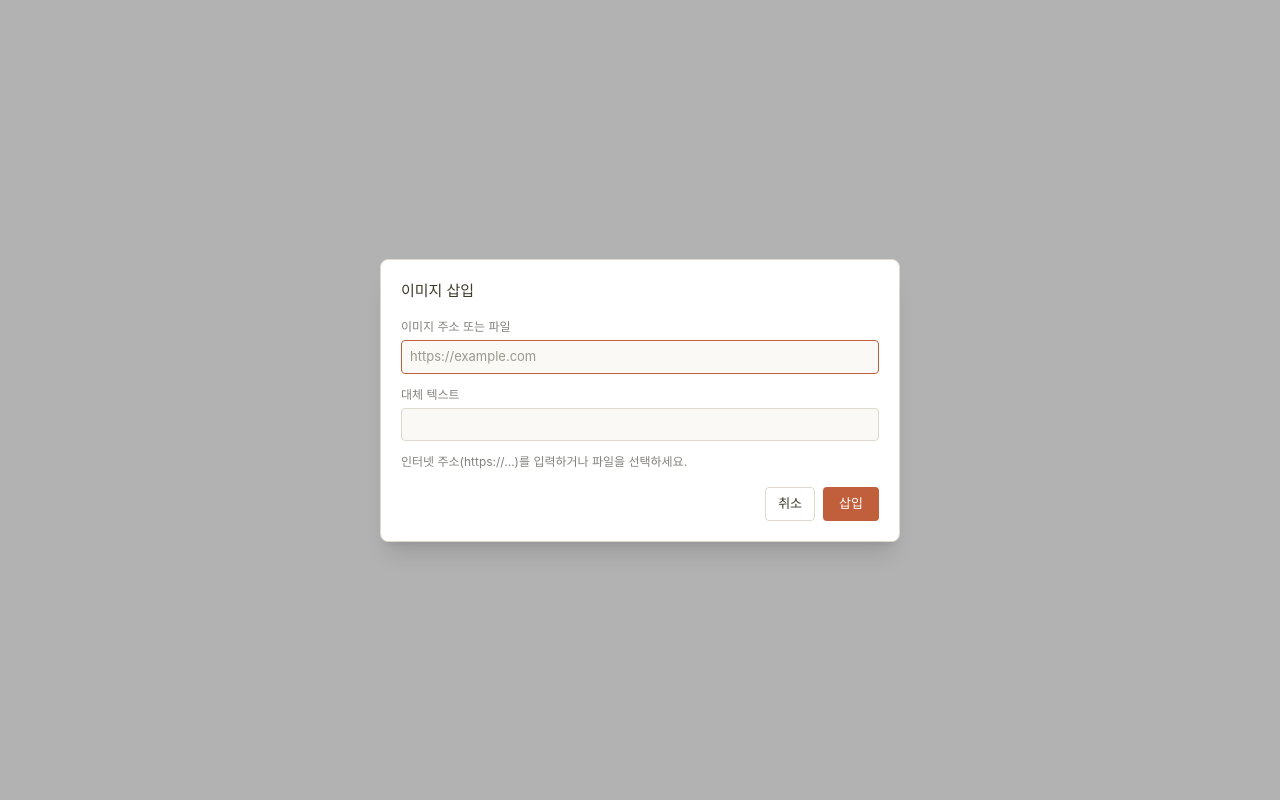
Test: InsertDialog › shows an error and stays open when the image address is empty
Click the button "삽입" at (851, 504), box [823,487,879,520]
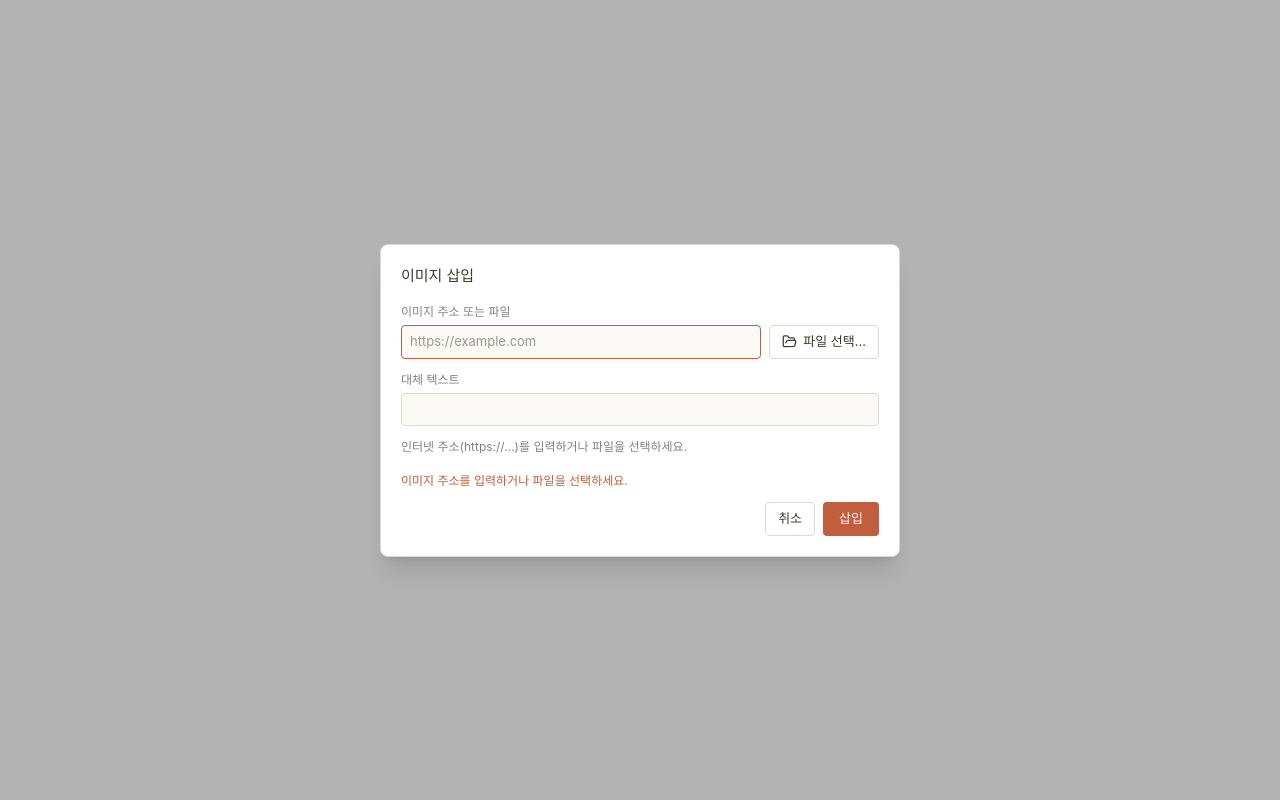
expect the message shows "이미지 주소": met, box [401,473,628,488]
